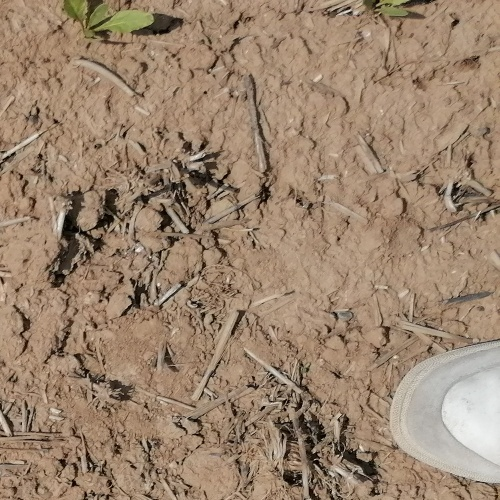beet: (63, 0, 155, 38), (368, 0, 418, 19)
